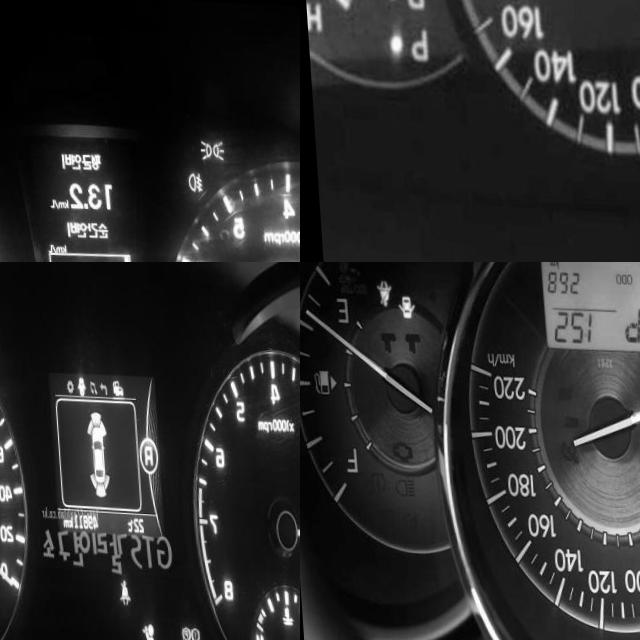FrontFogLight: (185, 168, 202, 189)
Seat Belt: (373, 277, 391, 308)
SideLamp: (199, 135, 225, 158)
